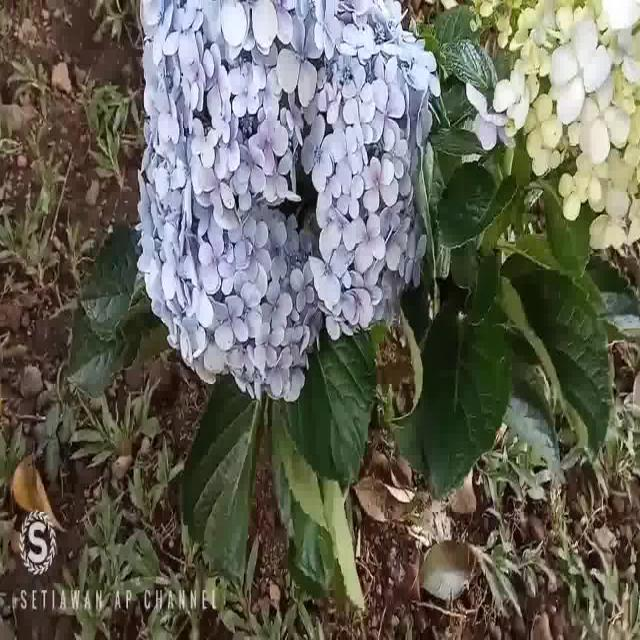Flower: (134, 1, 429, 405)
